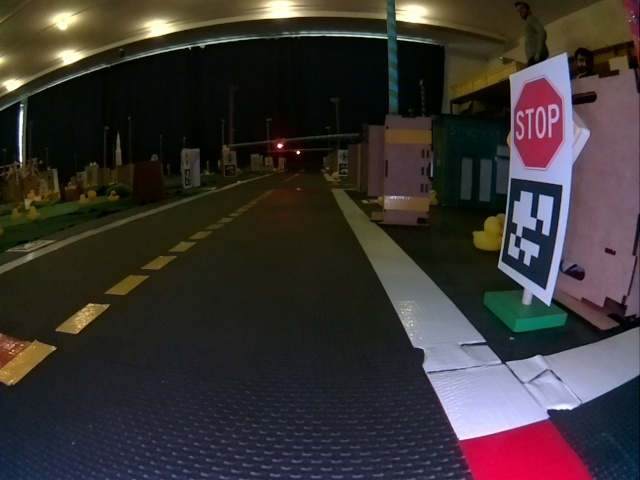Duckie: (474, 218, 500, 248), (29, 207, 40, 219), (109, 190, 118, 200), (78, 195, 87, 204)
QR code: (502, 178, 563, 290), (7, 240, 52, 252)
Stop sign: (514, 76, 563, 170)
